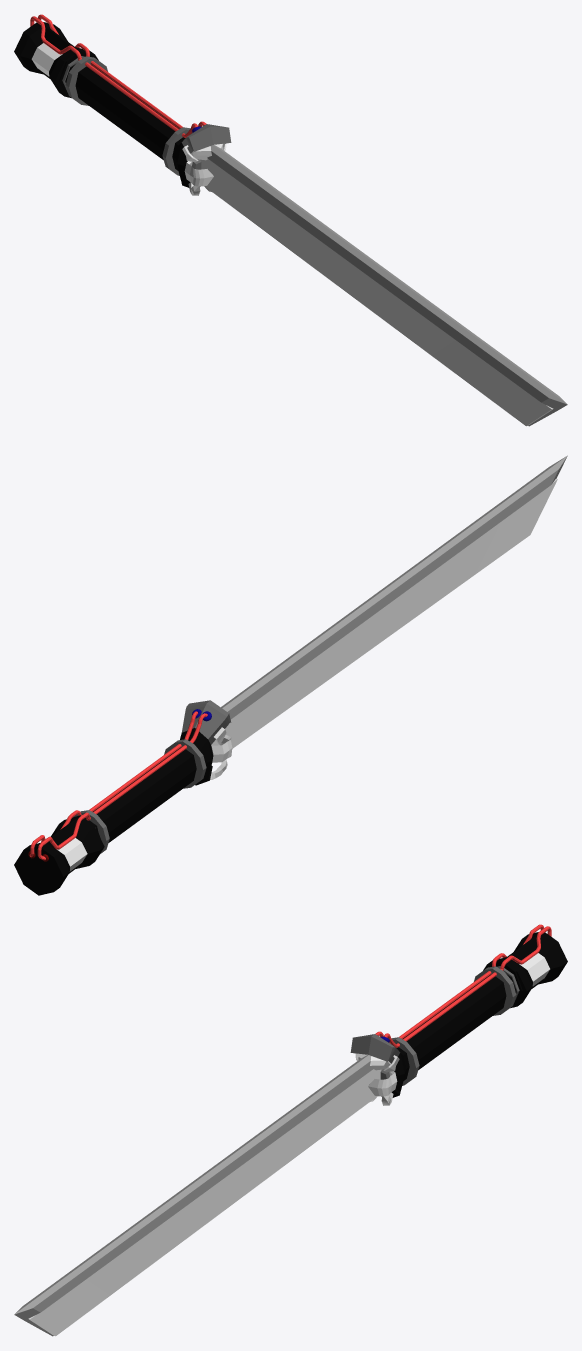
Rendered from CyberKatana.fbx.
The picture shows the model from 3 angles, top to bottom: view 1: azimuth 30°, elevation 25°; view 2: azimuth 150°, elevation 25°; view 3: azimuth 330°, elevation 25°; orthographic projection.
Visible parts, largest first — view 1: Cylinder; view 2: Cylinder; view 3: Cylinder.
Part boxes in pixels (x1=…): Cylinder: x1=14, y1=14, x2=567, y2=426; Cylinder: x1=14, y1=455, x2=567, y2=895; Cylinder: x1=14, y1=924, x2=567, y2=1336.
Size of the model in its own units: 28.6 by 40.93 by 530.
